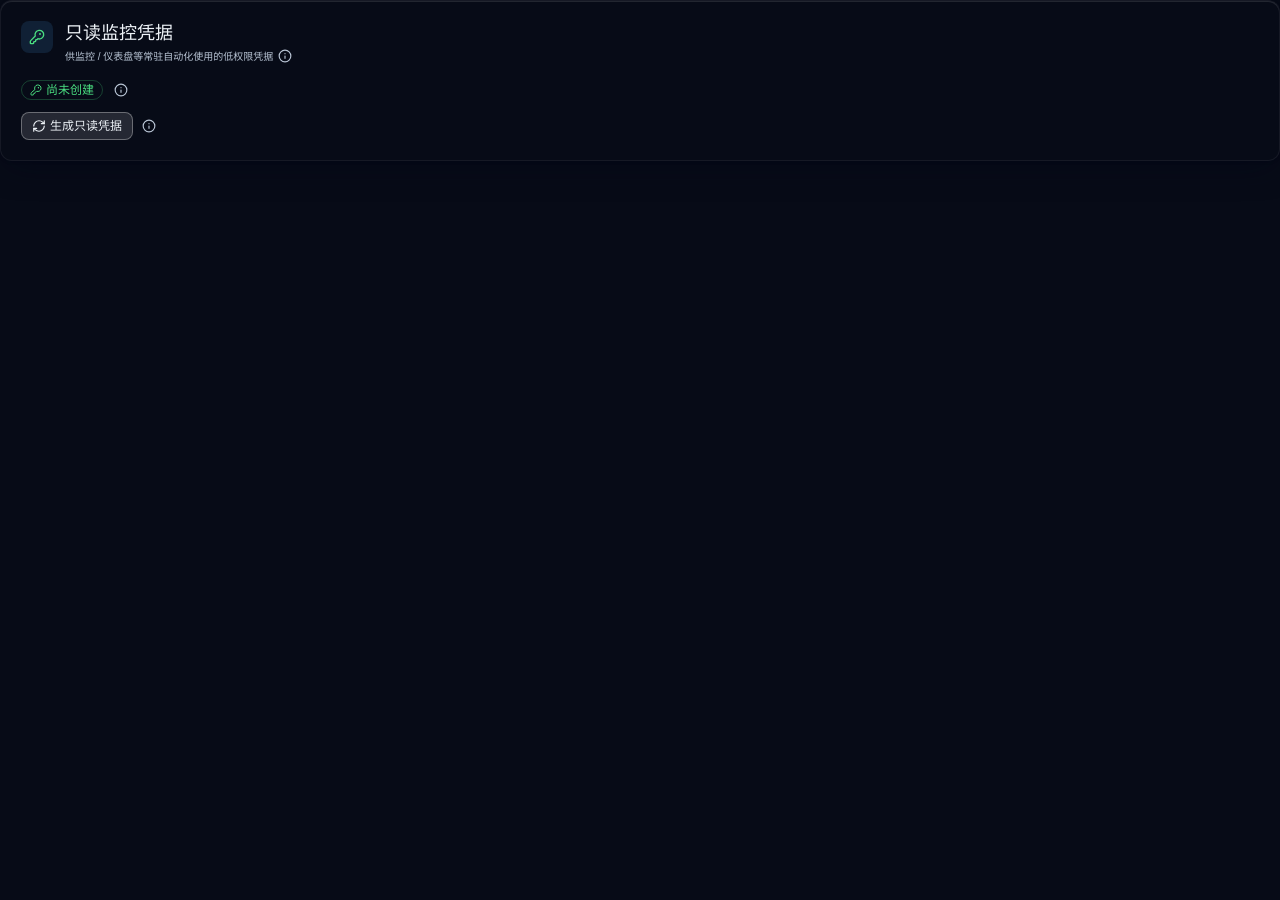
ReadonlyCredentialPanel 生成与明文一次性展示 › 首次生成：无需二次确认；成功后明文仅展示一次，收起后不再渲染且不落缓存
Click the button "生成只读凭据" at (77, 126), box x1=21 y1=112 x2=133 y2=140
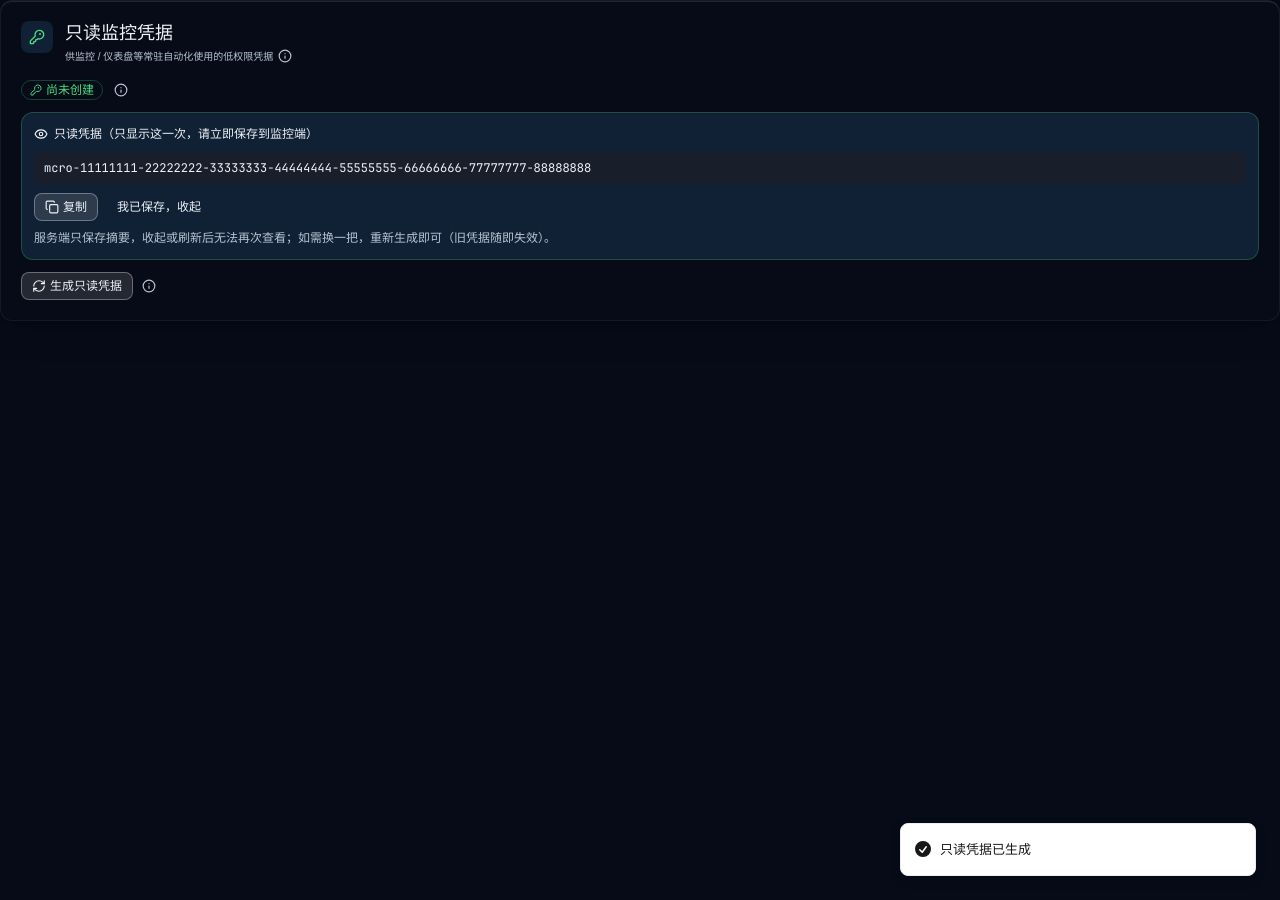
Check: the text "mcro-11111111-22222222-33333333-44444444-55555555-66666666-77777777-88888888" is shown, box x1=34 y1=151 x2=1246 y2=185
Check: the text "只读凭据（只显示这一次，请立即保存到监控端）" is shown, box x1=34 y1=127 x2=318 y2=141
Check: the message shows "mcro-11111111-22222222-33333333-44444444-55555555-66666666-77777777-88888888", box x1=44 y1=160 x2=591 y2=176
Click the button "我已保存，收起" at (159, 207), box x1=106 y1=193 x2=212 y2=221
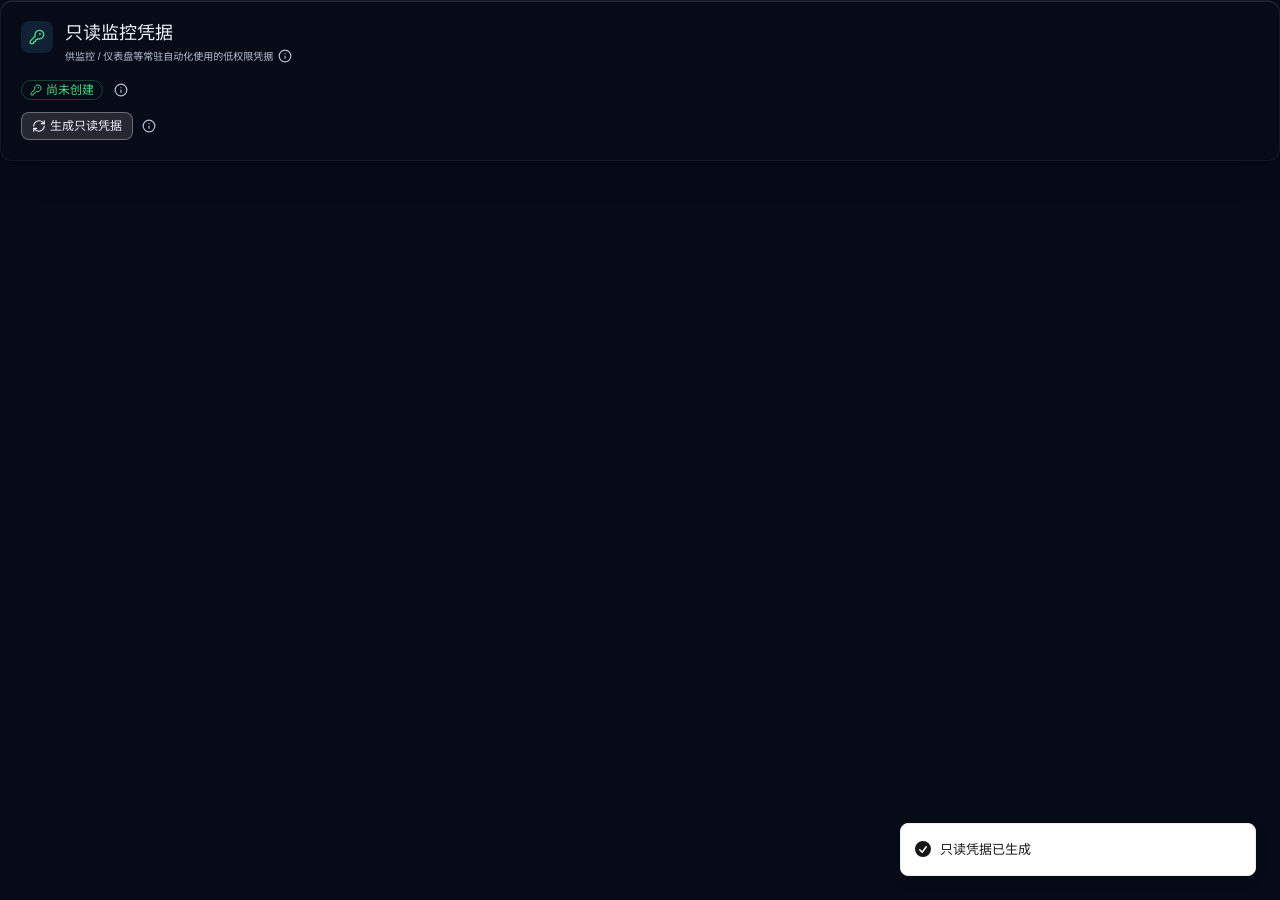
Check: the text "mcro-11111111-22222222-33333333-44444444-55555555-66666666-77777777-88888888" is gone
